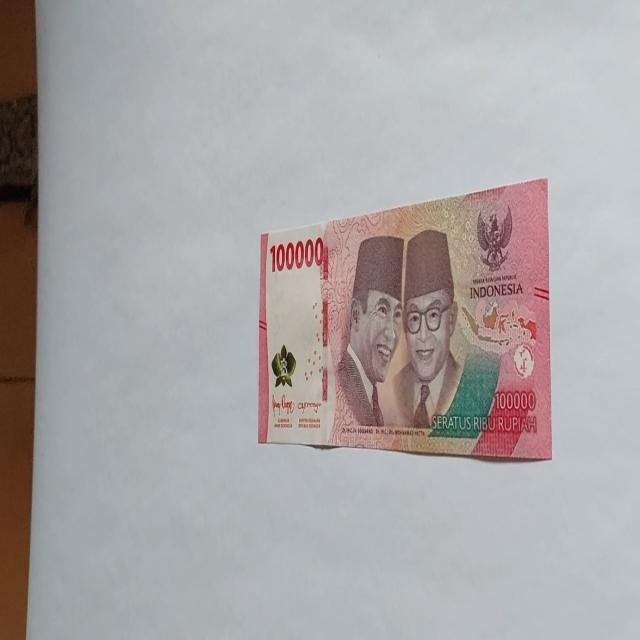seratus ribu rupiah: (256, 176, 552, 460), (330, 234, 404, 444), (390, 228, 464, 430)
